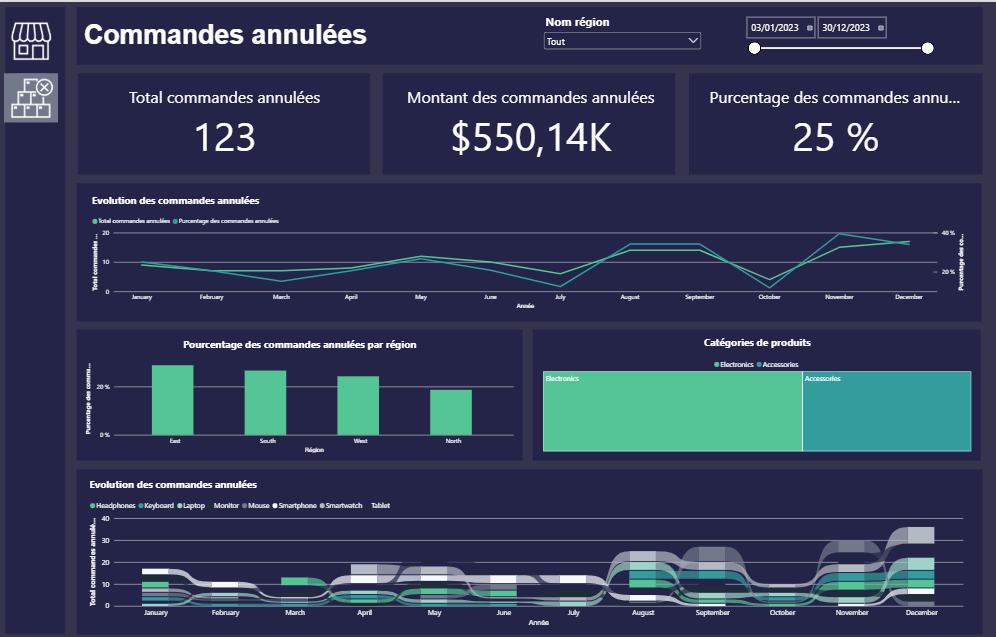

What the dashboard file says about the page in this screenshot:
{"tool":"powerbi","page":{"name":"Ventes annulées","canvas":[2000,1280],"ordinal":1},"visuals":[{"type":"shape","box":[12,10,120,1254],"z":0},{"type":"shape","box":[155.4,10.8,1812.8,115.7],"z":1000},{"type":"shape","box":[157.5,142.5,585,202.5],"z":2000},{"type":"shape","box":[154.4,362.5,1810.2,276.7],"z":3000},{"type":"shape","box":[154,654,892,262],"z":4000},{"type":"shape","box":[1068,654,896,262],"z":5000},{"type":"shape","box":[156,934,1812.3,330.3],"z":6000},{"type":"textbox","box":[170,35,830,67.5],"z":7000},{"type":"lineChart","title":"Evolution des commandes annulées","fields":{"Category":["ventes_fait.Date commande.Variation.Date Hierarchy.Year","ventes_fait.Date commande.Variation.Date Hierarchy.Quarter","ventes_fait.Date commande.Variation.Date Hierarchy.Month","ventes_fait.Date commande.Variation.Date Hierarchy.Day"],"Y2":["Mesures.Purcentage des commandes annulées"],"Y":["Mesures.Total commandes annulées"]},"box":[170,367.5,1780,262.5],"z":8000},{"type":"columnChart","title":"Pourcentage des commandes annulées par région","fields":{"Category":["Région_dim.Nom région"],"Y":["Mesures.Purcentage des commandes annulées"]},"box":[158,654,888,262],"z":9000},{"type":"slicer","fields":{"Values":["Région_dim.Nom région"]},"box":[1085,22.5,324,96],"z":10000},{"type":"slicer","fields":{"Values":["ventes_fait.Date commande"]},"box":[1487.5,25,386,82],"z":11000},{"type":"shape","box":[767.5,142.5,585,202.5],"z":12000},{"type":"shape","box":[1380,142.5,587.5,202.5],"z":13000},{"type":"cardVisual","fields":{"Data":["Mesures.Total commandes annulées"]},"box":[235,160,432.5,167.5],"z":14000},{"type":"cardVisual","fields":{"Data":["Mesures.Montant des commandes annulées"]},"box":[795,160,537.5,167.5],"z":15000},{"type":"cardVisual","fields":{"Data":["Mesures.Purcentage des commandes annulées"]},"box":[1405,160,537.5,167.5],"z":16000},{"type":"ribbonChart","title":"Evolution des commandes annulées","fields":{"Category":["ventes_fait.Date commande.Variation.Date Hierarchy.Year","ventes_fait.Date commande.Variation.Date Hierarchy.Quarter","ventes_fait.Date commande.Variation.Date Hierarchy.Month","ventes_fait.Date commande.Variation.Date Hierarchy.Day"],"Y":["Mesures.Total commandes annulées"],"Series":["Produits_dim.Nom produit"]},"box":[164,934,1780,330],"z":17000},{"type":"treemap","title":"Catégories de produits","fields":{"Group":["Produits_dim.Catégorie produit"],"Values":["Mesures.Total commandes annulées"]},"box":[1073.3,653.3,888,262],"z":18000},{"type":"image","box":[12,20,104,116],"z":19000},{"type":"shape","box":[10,142.5,108,98],"z":19500},{"type":"image","box":[15,142.5,102,100],"z":20000}]}

Visuals, with their boxes in screenshot pixels (x1, y1, x2, y2), scaled from the page's 2000x1280 canvas onto the 996x637 screenshot:
shape: x1=6 y1=5 x2=66 y2=629
shape: x1=77 y1=5 x2=980 y2=63
shape: x1=78 y1=71 x2=370 y2=172
shape: x1=77 y1=180 x2=978 y2=318
shape: x1=77 y1=325 x2=521 y2=456
shape: x1=532 y1=325 x2=978 y2=456
shape: x1=78 y1=465 x2=980 y2=629
textbox: x1=85 y1=17 x2=498 y2=51
"Evolution des commandes annulées" lineChart: x1=85 y1=183 x2=971 y2=314
"Pourcentage des commandes annulées par région" columnChart: x1=79 y1=325 x2=521 y2=456
slicer - Région_dim.Nom région: x1=540 y1=11 x2=702 y2=59
slicer - ventes_fait.Date commande: x1=741 y1=12 x2=933 y2=53
shape: x1=382 y1=71 x2=674 y2=172
shape: x1=687 y1=71 x2=980 y2=172
cardVisual - Mesures.Total commandes annulées: x1=117 y1=80 x2=332 y2=163
cardVisual - Mesures.Montant des commandes annulées: x1=396 y1=80 x2=664 y2=163
cardVisual - Mesures.Purcentage des commandes annulées: x1=700 y1=80 x2=967 y2=163
"Evolution des commandes annulées" ribbonChart: x1=82 y1=465 x2=968 y2=629
"Catégories de produits" treemap: x1=535 y1=325 x2=977 y2=456
image: x1=6 y1=10 x2=58 y2=68
shape: x1=5 y1=71 x2=59 y2=120
image: x1=7 y1=71 x2=58 y2=121
